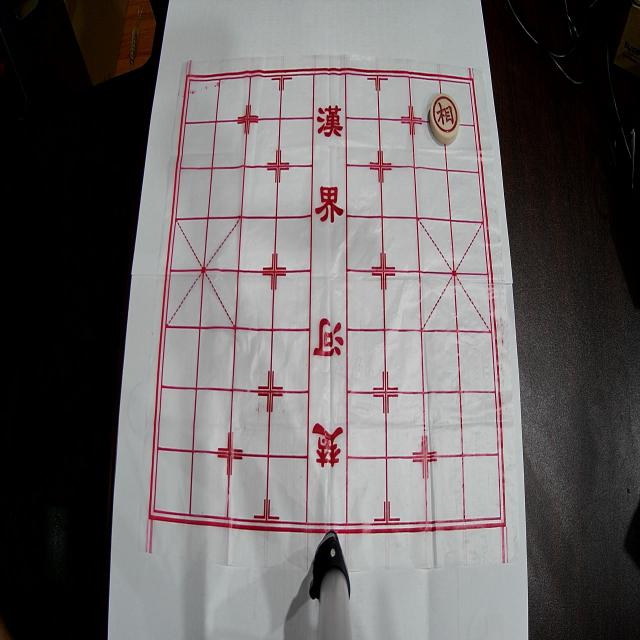red-elephant: (430, 93, 460, 144)
